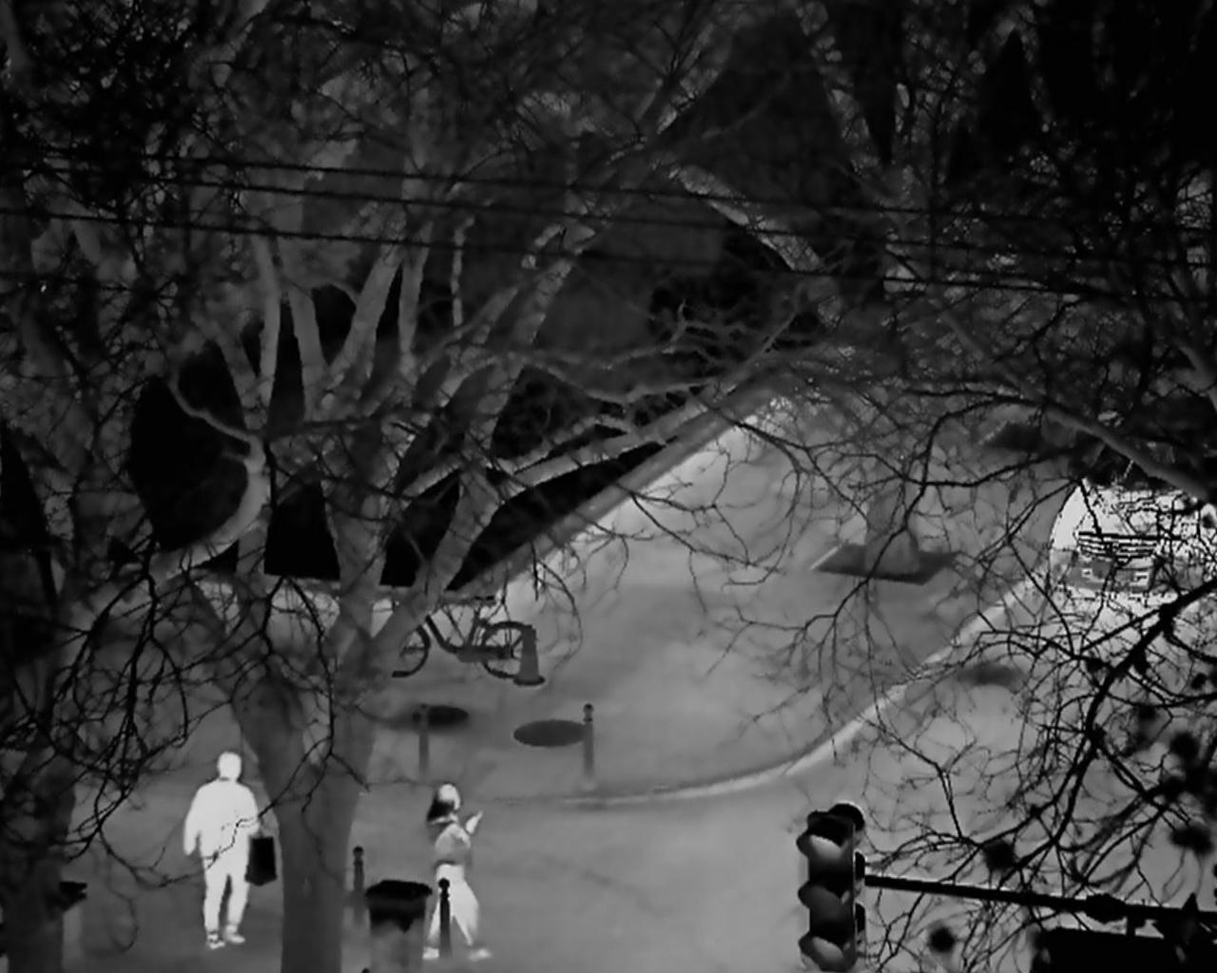person: (183, 750, 260, 949), (422, 783, 493, 960)
